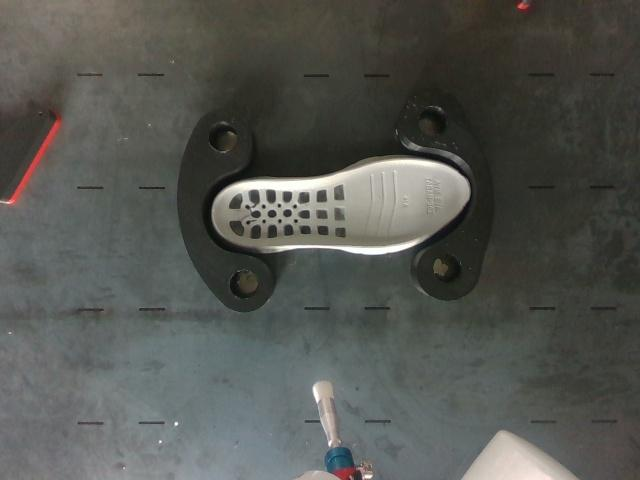shoes: (214, 161, 469, 247)
